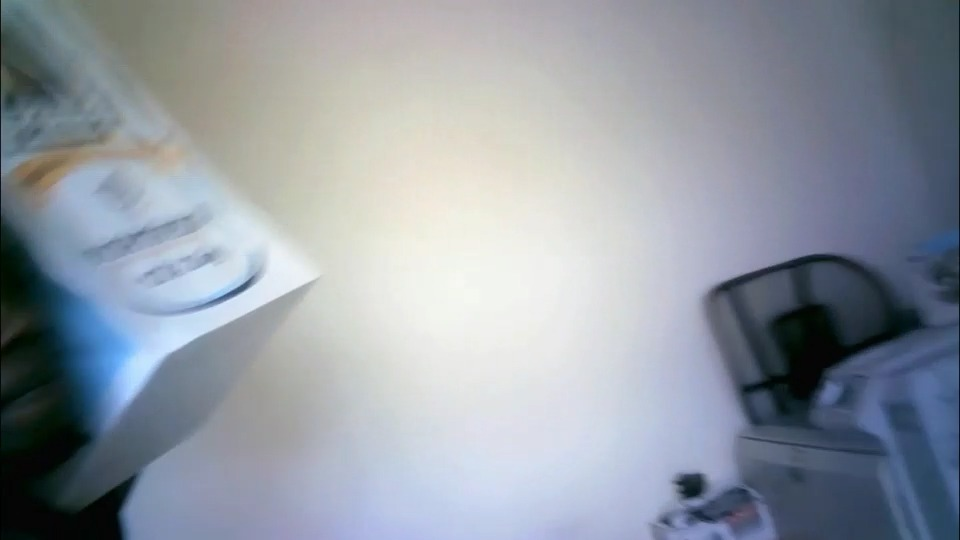wheat_flour_blue_label: (0, 0, 322, 513)
